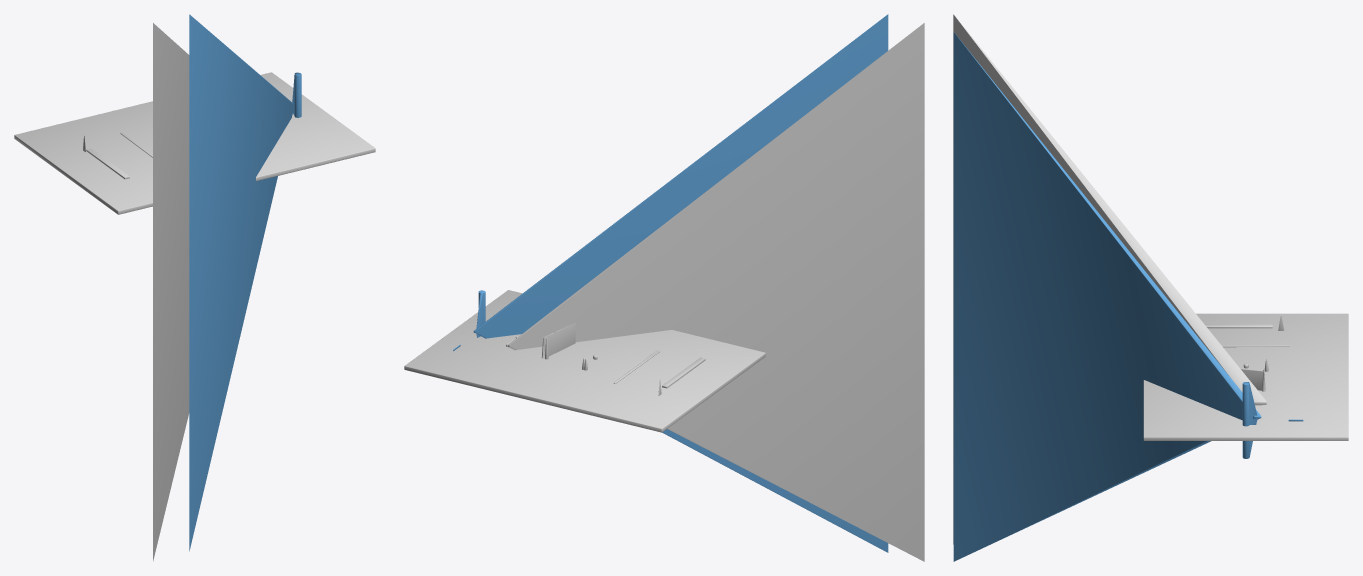
File: Surgical_Instruments_Tray.fbx
3 renders of one model, left to right at view 1: azimuth 30°, elevation 25°; view 2: azimuth 150°, elevation 25°; view 3: azimuth 270°, elevation 25°, orthographic.
Visible parts, largest first — view 1: Electrocautery_Pencil, Needle_Holder, Mayo_Instrument_Tray; view 2: Needle_Holder, Mayo_Instrument_Tray, Electrocautery_Pencil, Hemostat_Kelly_Clamp; view 3: Electrocautery_Pencil, Mayo_Instrument_Tray, Needle_Holder.
Boxes of the visible parts, bbox=[...] form: Electrocautery_Pencil: bbox=[189, 14, 301, 551]; Needle_Holder: bbox=[153, 23, 189, 561]; Mayo_Instrument_Tray: bbox=[14, 72, 375, 214]; Needle_Holder: bbox=[506, 23, 924, 561]; Mayo_Instrument_Tray: bbox=[404, 290, 765, 432]; Electrocautery_Pencil: bbox=[453, 14, 888, 552]; Hemostat_Kelly_Clamp: bbox=[541, 322, 575, 359]; Electrocautery_Pencil: bbox=[953, 32, 1303, 561]; Mayo_Instrument_Tray: bbox=[1143, 313, 1348, 440]; Needle_Holder: bbox=[953, 14, 1266, 544].
Size of the model in its own units: 0.62 by 1 by 0.675.
